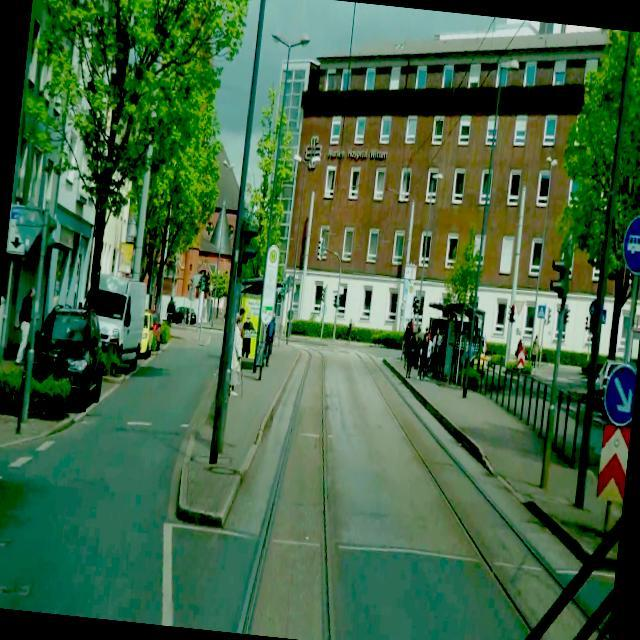rail: (205, 345, 356, 639)
